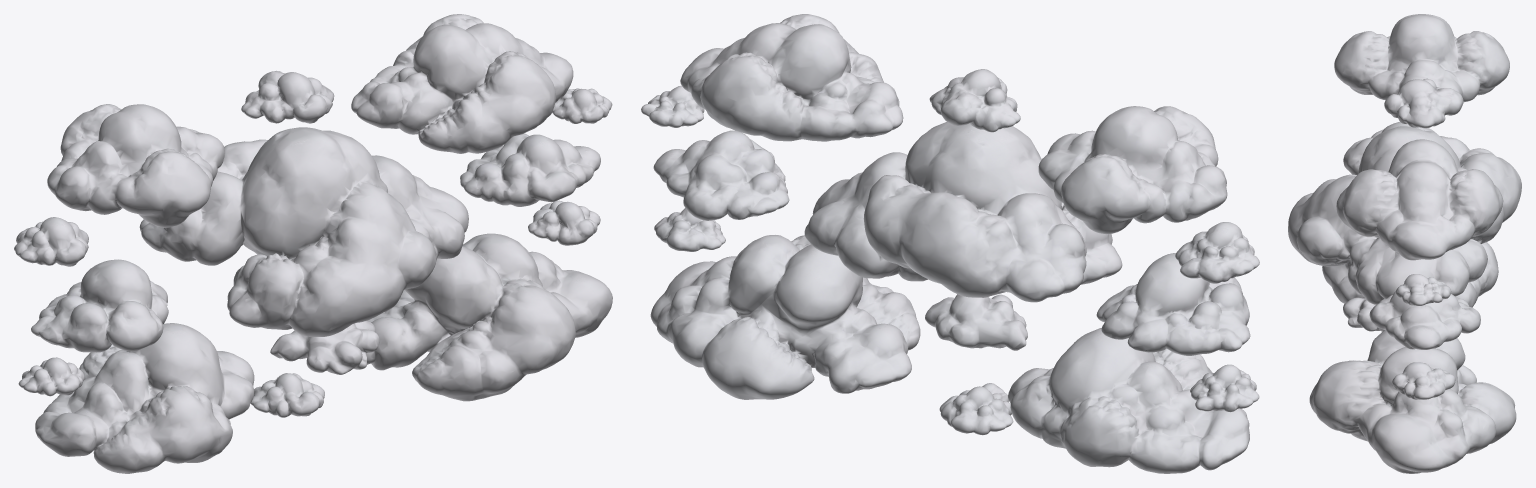
File: story-cloudscape-lite.glb
The picture shows the model from 3 angles, left to right: view 1: azimuth 30°, elevation 25°; view 2: azimuth 150°, elevation 25°; view 3: azimuth 270°, elevation 25°; orthographic projection. The views are drawn at different scales.
Visible parts, largest first — view 1: Cloud_10, Cloud_12, Cloud_06, Cloud_11, Cloud_05, Cloud_03, Cloud_13, Cloud_09, Cloud_08, Cloud_02, Cloud_07, Cloud_14 (+2 smaller); view 2: Cloud_10, Cloud_12, Cloud_06, Cloud_11, Cloud_05, Cloud_03, Cloud_13, Cloud_09, Cloud_08, Cloud_02, Cloud_07, Cloud_01 (+2 smaller); view 3: Cloud_12, Cloud_10, Cloud_11, Cloud_05, Cloud_13, Cloud_08, Cloud_06, Cloud_14, Cloud_15, Cloud_09, Cloud_03.
Part boxes in pixels (box(x1,y1,x2,y2)): Cloud_10: box(139, 127, 468, 336); Cloud_12: box(366, 233, 612, 401); Cloud_06: box(35, 323, 254, 473); Cloud_11: box(351, 14, 573, 153); Cloud_05: box(47, 104, 224, 227); Cloud_03: box(31, 259, 168, 352); Cloud_13: box(460, 133, 600, 206); Cloud_09: box(270, 320, 379, 374); Cloud_08: box(241, 70, 334, 123); Cloud_02: box(14, 217, 88, 266); Cloud_07: box(250, 373, 324, 417); Cloud_14: box(528, 200, 600, 245); Cloud_10: box(804, 122, 1122, 302); Cloud_12: box(650, 235, 920, 399); Cloud_06: box(1008, 328, 1249, 473); Cloud_11: box(680, 14, 903, 141); Cloud_05: box(1038, 106, 1227, 234); Cloud_03: box(1096, 253, 1250, 355); Cloud_13: box(653, 130, 789, 220); Cloud_09: box(925, 294, 1027, 350); Cloud_08: box(929, 69, 1020, 132); Cloud_02: box(1175, 222, 1259, 283); Cloud_07: box(939, 383, 1013, 435); Cloud_01: box(1190, 364, 1259, 412); Cloud_12: box(1309, 330, 1516, 473); Cloud_10: box(1288, 126, 1521, 304); Cloud_11: box(1336, 139, 1503, 260); Cloud_05: box(1334, 14, 1509, 102); Cloud_13: box(1369, 291, 1480, 349); Cloud_08: box(1384, 78, 1463, 128); Cloud_06: box(1322, 242, 1498, 307); Cloud_14: box(1392, 362, 1455, 399); Cloud_15: box(1396, 274, 1451, 305); Cloud_09: box(1343, 297, 1383, 331); Cloud_03: box(1343, 122, 1436, 174).
Size of the model in its own units: 1.9 by 1.05 by 0.7666.
1 material, 1 textured.
